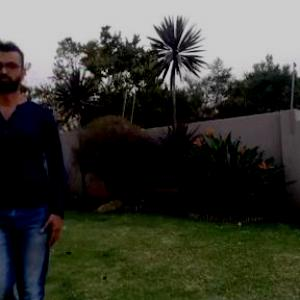follow: (1, 59, 59, 299)
